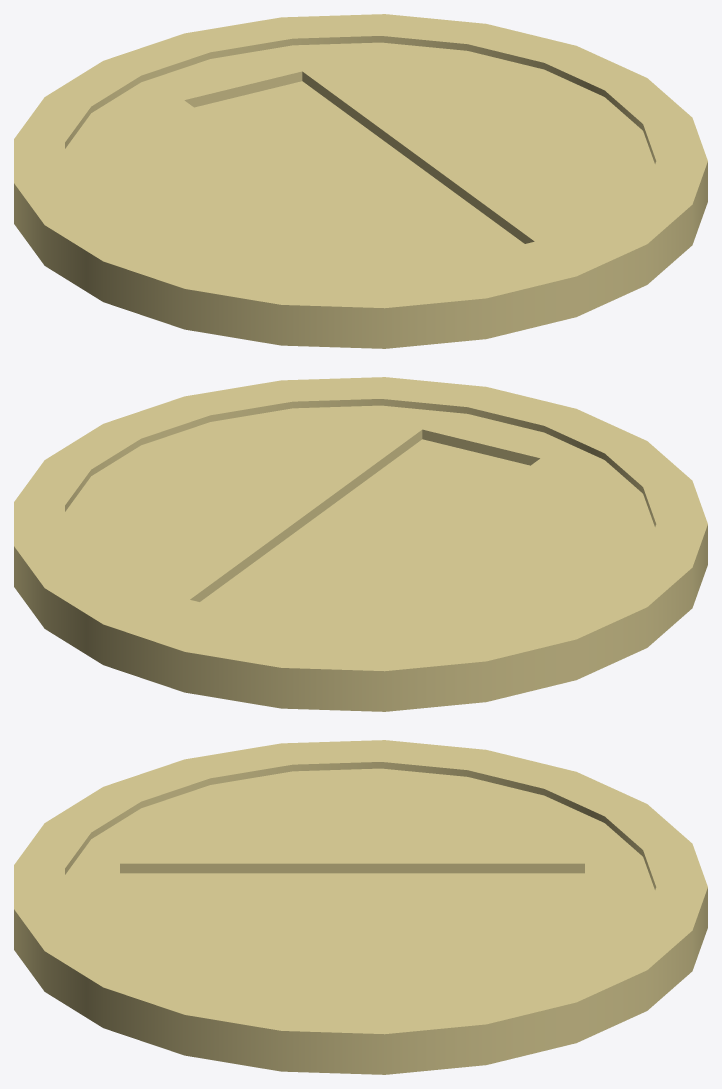
Rendered from Coin.obj.
3 renders of one model, top to bottom at view 1: azimuth 30°, elevation 25°; view 2: azimuth 150°, elevation 25°; view 3: azimuth 270°, elevation 25°, orthographic.
Parts seen in each view (by area): view 1: Cylinder001; view 2: Cylinder001; view 3: Cylinder001.
Part boxes in pixels (<box>): Cylinder001: <box>14,14,707,348</box>; Cylinder001: <box>14,377,707,711</box>; Cylinder001: <box>14,740,707,1074</box>.
Size of the model in its own units: 137 by 8.86 by 137.
